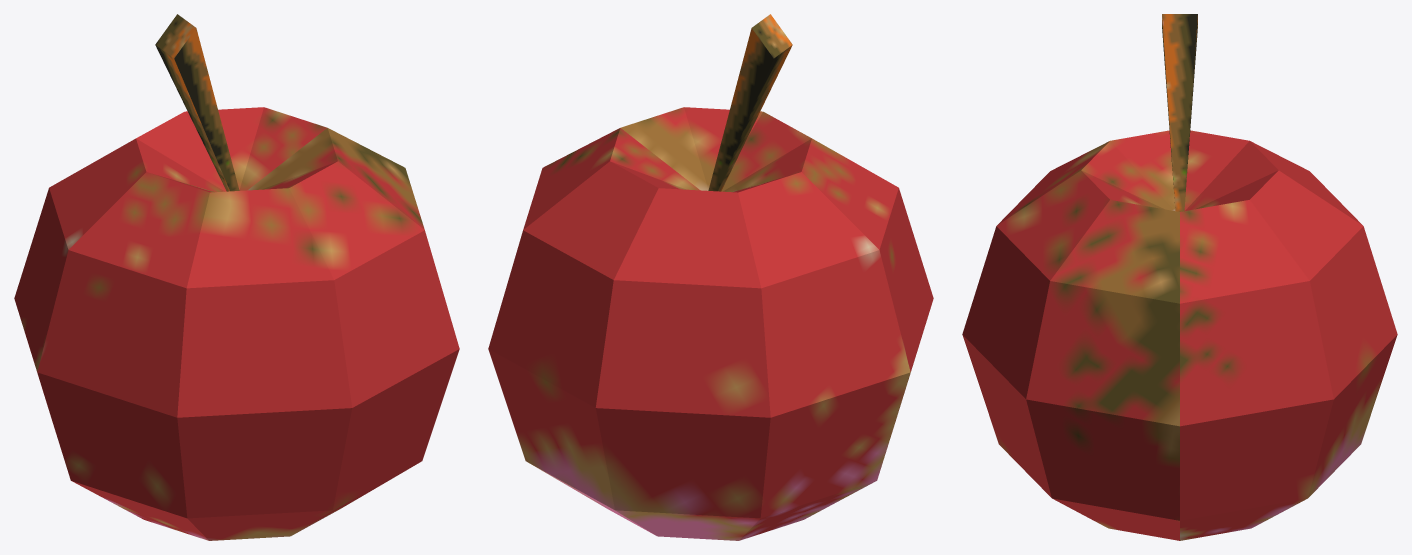
The model's file is SM_Dungeon_Food_Apple.fbx.
3 renders of one model, left to right at view 1: azimuth 30°, elevation 25°; view 2: azimuth 150°, elevation 25°; view 3: azimuth 270°, elevation 25°, orthographic. The views are drawn at different scales.
Parts seen in each view (by area): view 1: SM_Dungeon_Food_Apple; view 2: SM_Dungeon_Food_Apple; view 3: SM_Dungeon_Food_Apple.
Boxes of the visible parts, x1,y1,x2,y2 form: SM_Dungeon_Food_Apple: [14, 14, 459, 540]; SM_Dungeon_Food_Apple: [488, 14, 933, 540]; SM_Dungeon_Food_Apple: [962, 14, 1397, 540].
Size of the model in its own units: 25.32 by 29.59 by 25.32.
